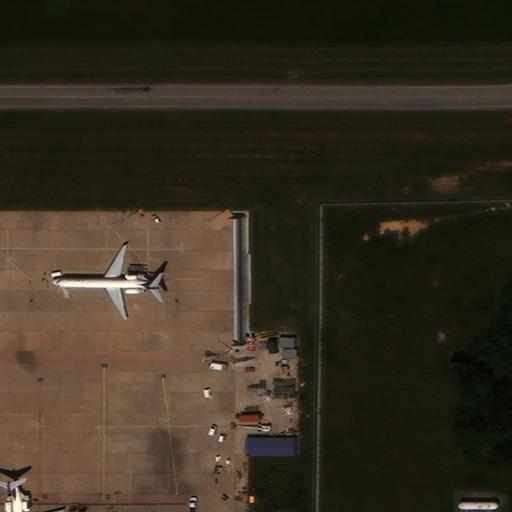Medium Civil Transport: (49, 243, 162, 319), (0, 475, 63, 512)
